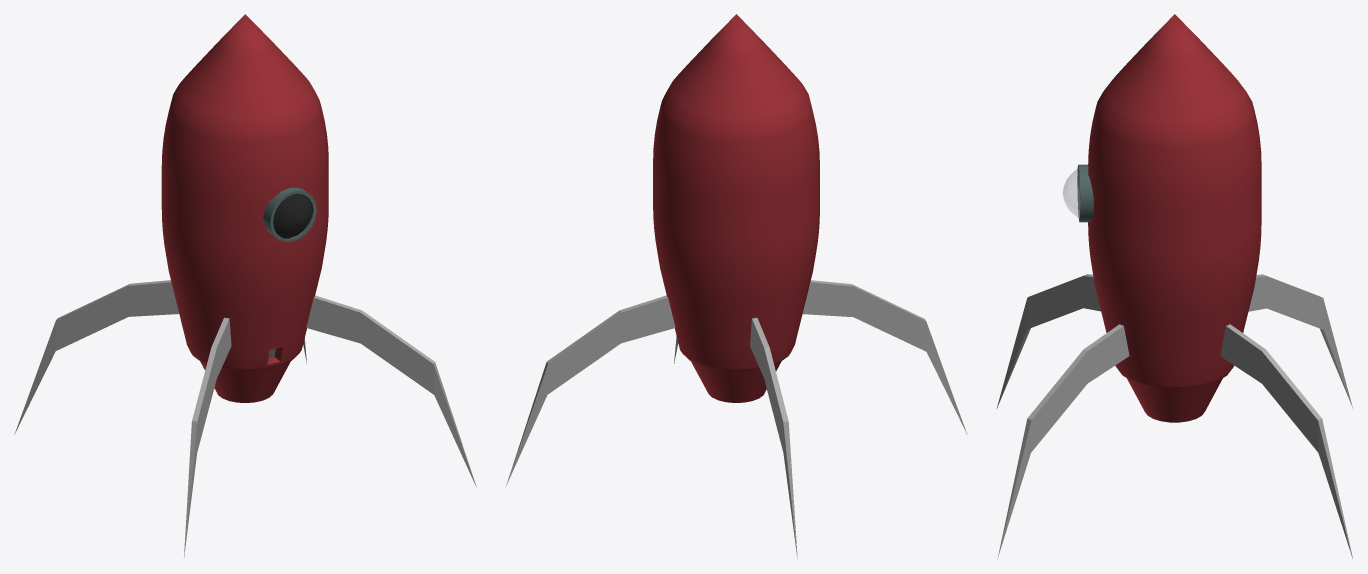
File: Rocket.fbx
3 renders of one model, left to right at view 1: azimuth 30°, elevation 25°; view 2: azimuth 150°, elevation 25°; view 3: azimuth 270°, elevation 25°, orthographic. The views are drawn at different scales.
Parts seen in each view (by area): view 1: Main_body, pCube4, pCube2, pCube3, Window, Interior; view 2: Main_body, pCube1, pCube3, pCube2; view 3: Main_body, pCube1, pCube4, pCube2, pCube3, Window.
Boxes of the visible parts, bbox=[...] form: Main_body: bbox=[161, 14, 328, 402]; pCube4: bbox=[306, 295, 476, 487]; pCube2: bbox=[14, 280, 179, 434]; pCube3: bbox=[183, 317, 231, 559]; Window: bbox=[263, 187, 316, 241]; Interior: bbox=[273, 193, 313, 238]; Main_body: bbox=[653, 14, 819, 402]; pCube1: bbox=[505, 295, 675, 487]; pCube3: bbox=[802, 280, 967, 434]; pCube2: bbox=[750, 317, 797, 559]; Main_body: bbox=[1088, 14, 1261, 422]; pCube1: bbox=[1220, 324, 1352, 558]; pCube4: bbox=[997, 324, 1129, 559]; pCube2: bbox=[1248, 274, 1352, 407]; pCube3: bbox=[996, 274, 1100, 408]; Window: bbox=[1063, 164, 1093, 222].
Size of the model in its own units: 16.31 by 23.8 by 16.37.
